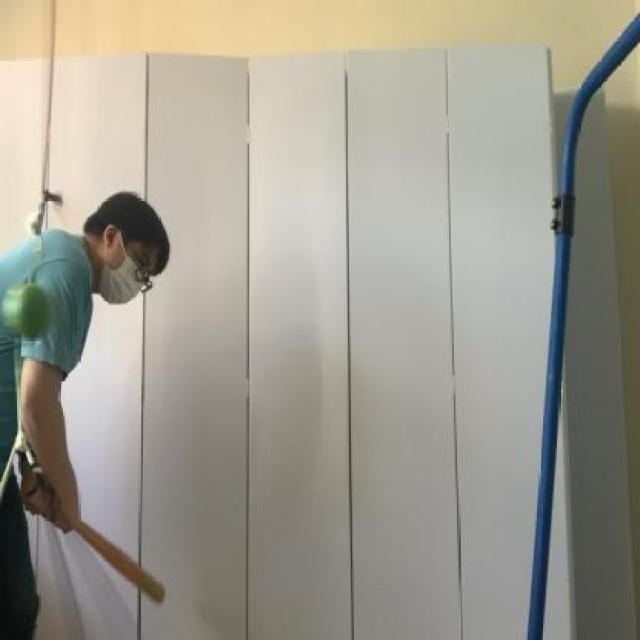baseball: (0, 274, 51, 344)
